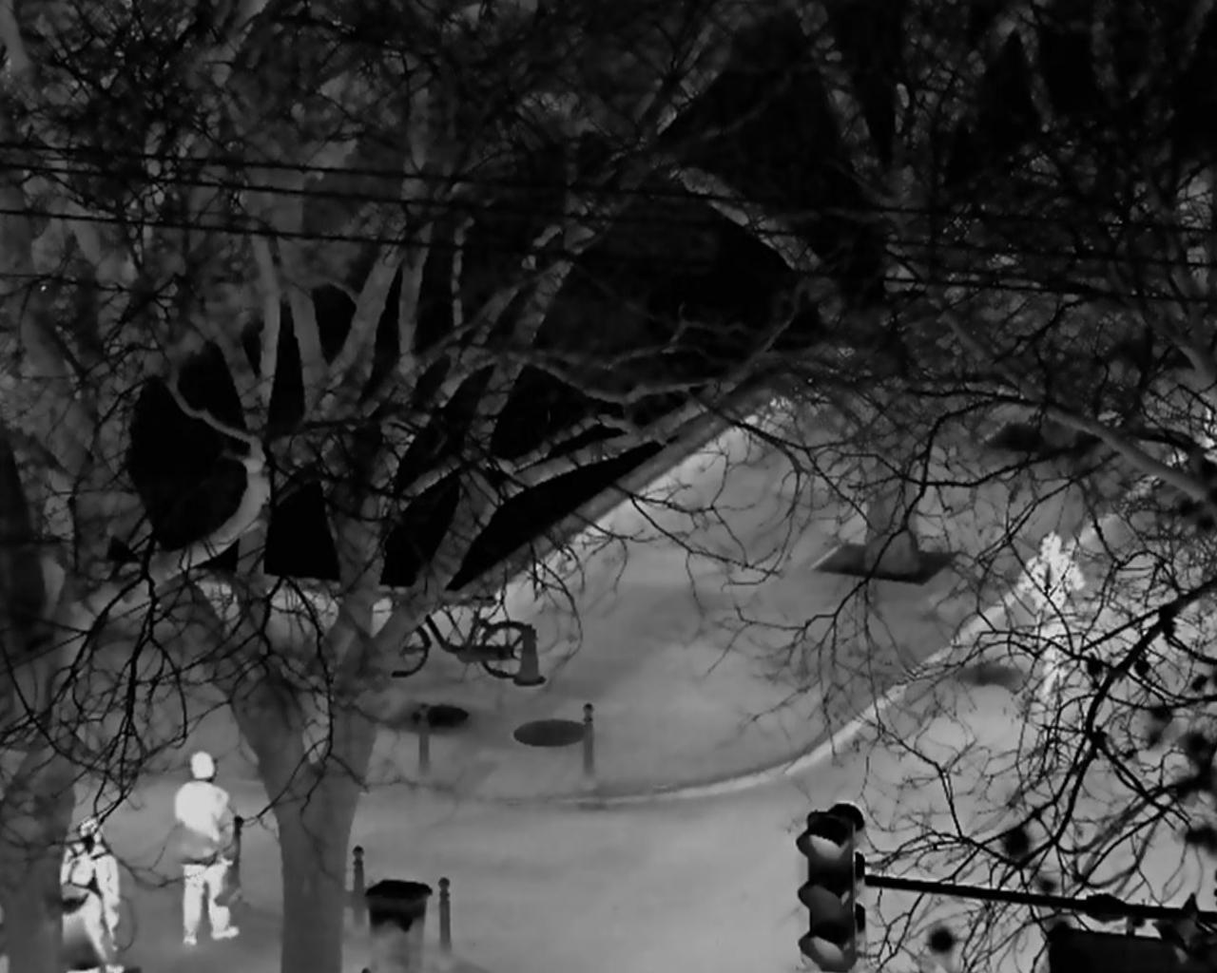person: (173, 747, 241, 944), (1014, 531, 1086, 714), (61, 819, 120, 973)
